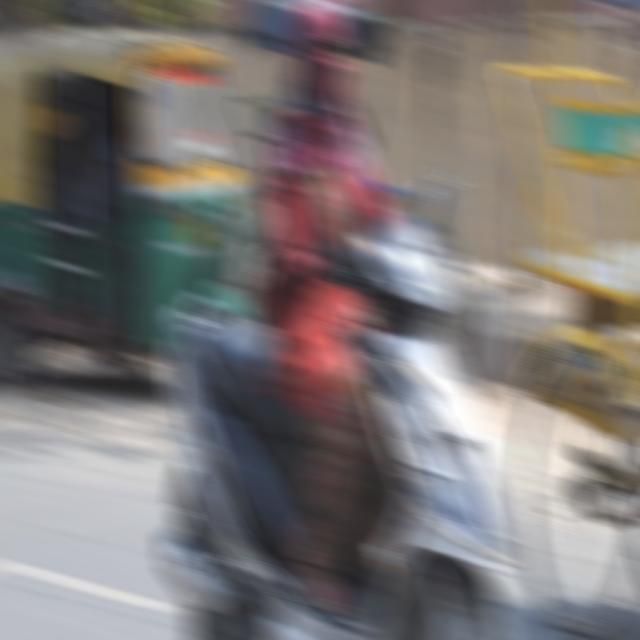Without Helmet: (288, 0, 355, 115)
